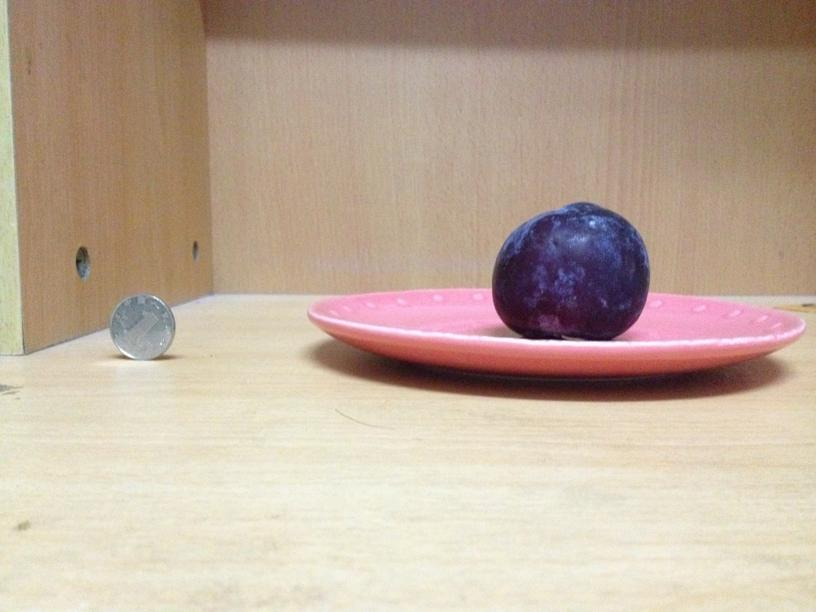coin: (108, 292, 175, 361)
plum: (492, 194, 651, 337)
